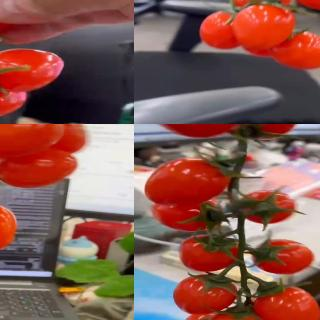tomato: (146, 156, 232, 207), (232, 4, 296, 54), (0, 124, 90, 158), (0, 47, 64, 94), (0, 151, 79, 189), (149, 196, 227, 232), (173, 277, 238, 316), (0, 124, 65, 161), (250, 238, 316, 274), (253, 285, 320, 320), (178, 234, 238, 273), (268, 28, 320, 69), (196, 8, 246, 49), (242, 190, 298, 226), (143, 124, 243, 137), (0, 197, 18, 252), (0, 84, 27, 118), (233, 124, 297, 138), (177, 307, 245, 320), (199, 312, 271, 320), (229, 0, 273, 10)
